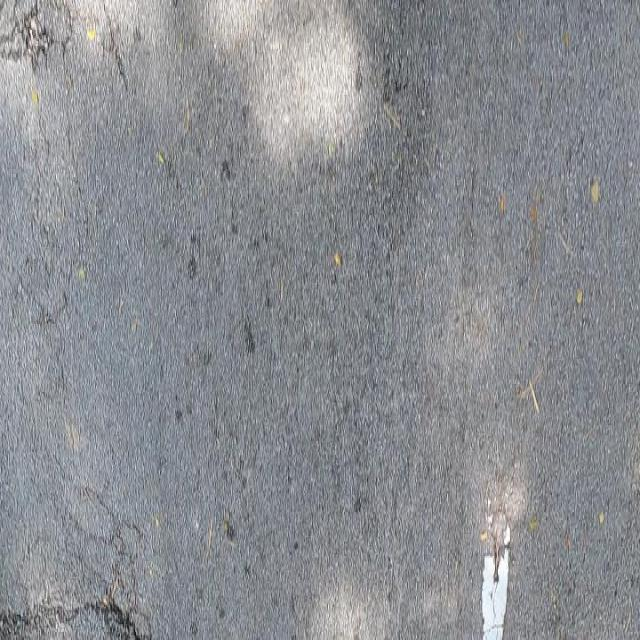cracks: (8, 0, 171, 137), (0, 522, 160, 640)
